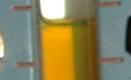border: (95, 56, 127, 64), (12, 60, 40, 69), (95, 0, 123, 8), (10, 4, 35, 12)
liquidlevel: (38, 14, 97, 29)
